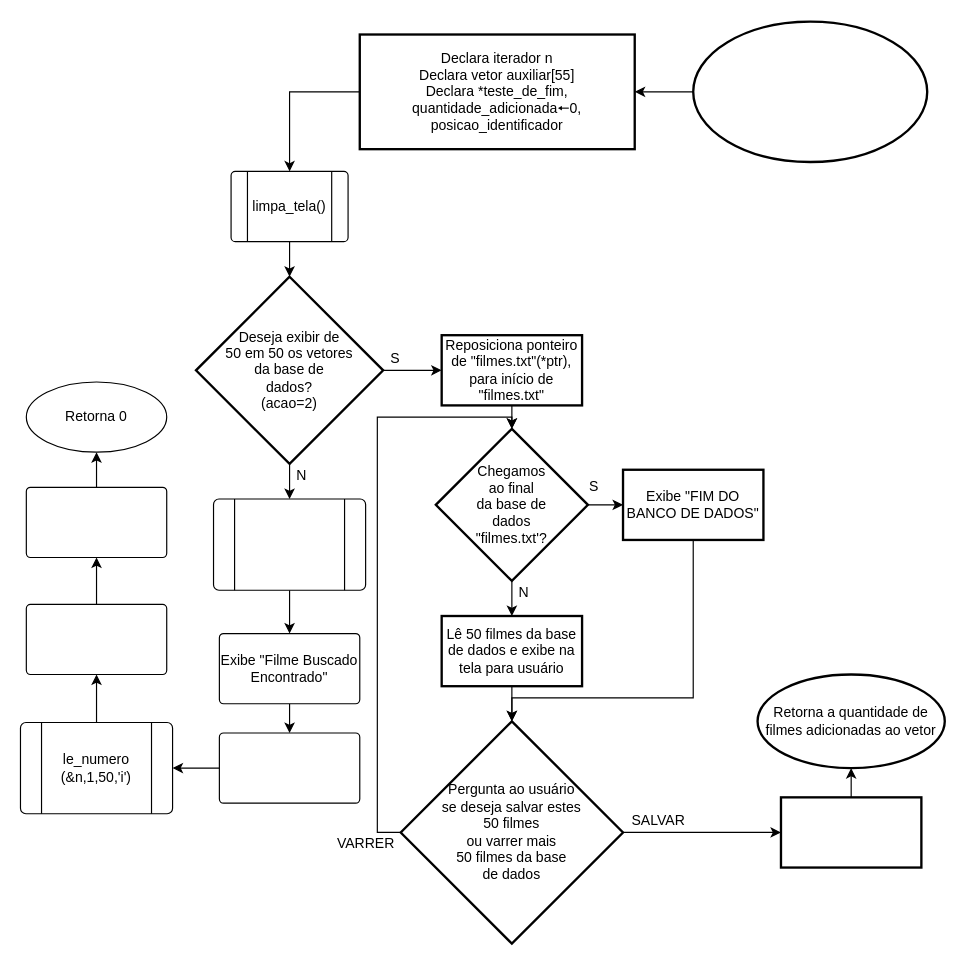
Image size: 966x964. Some labels were removed from this diagram. Each missing label, with the box of its shape:
Exibe "\nQual posicao deseja colocar o filme?": (218, 732, 360, 803)
imprimeFilmes (Todo vetor): (212, 498, 366, 590)
leFilmes (Filme *ptr,int acao,FILE *dados): (691, 20, 928, 163)
n-- (Para ir na posicao correta do vetor): (25, 603, 167, 675)
Salva o filme encontrado na posicao do vetor desejado: (25, 486, 167, 558)
Salva os filmes no vetor: (779, 796, 922, 868)
